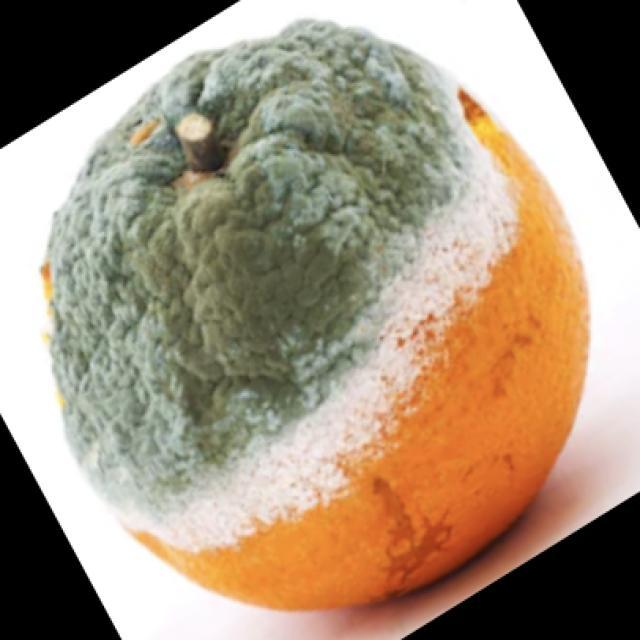sangat-busuk: (42, 20, 587, 607)
